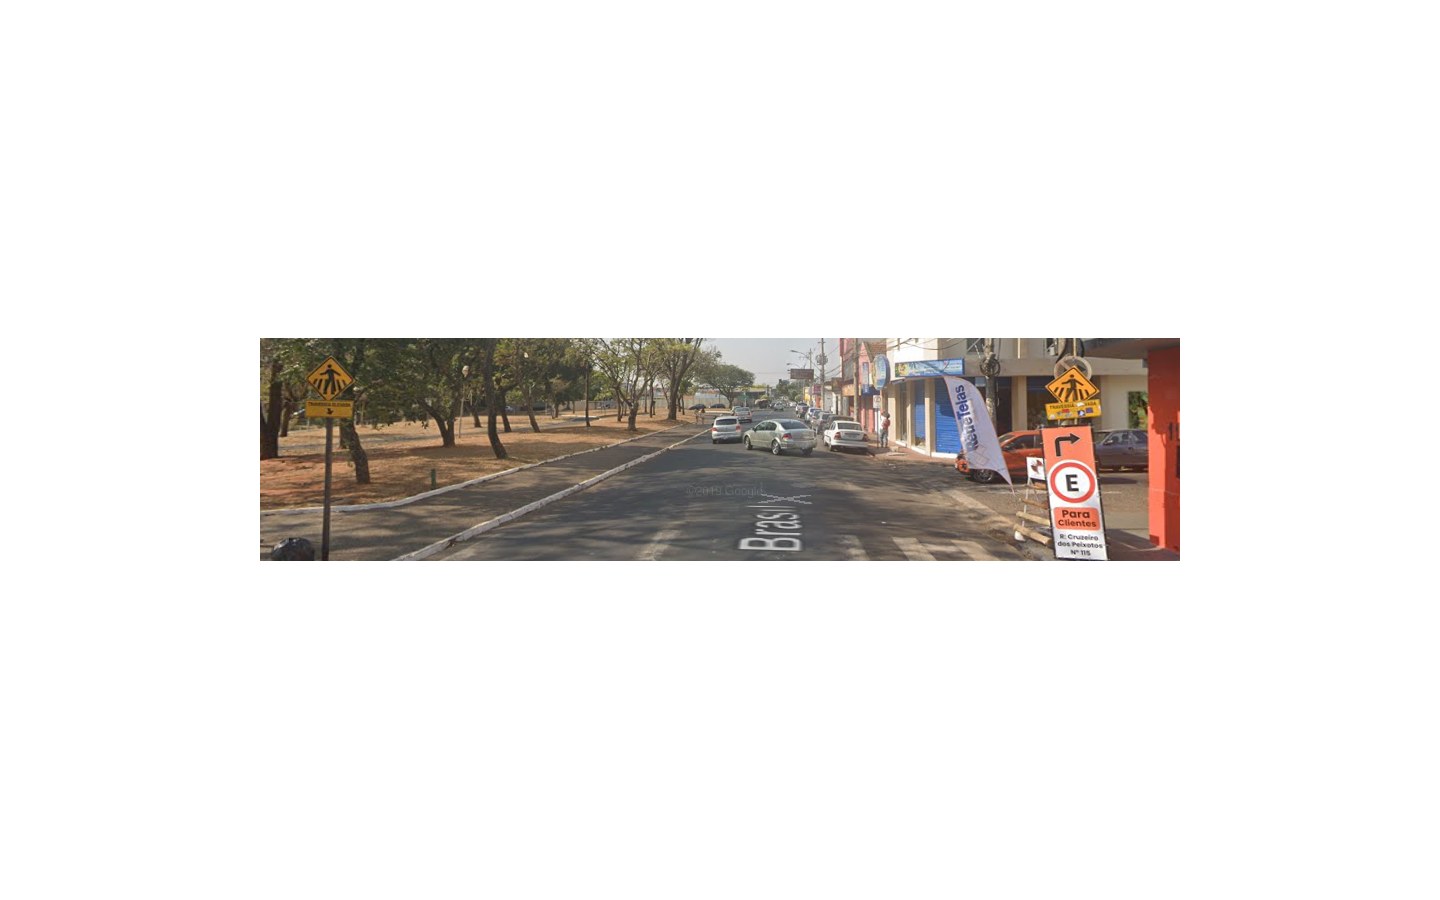telev: (1045, 365, 1102, 420), (304, 356, 354, 418)
